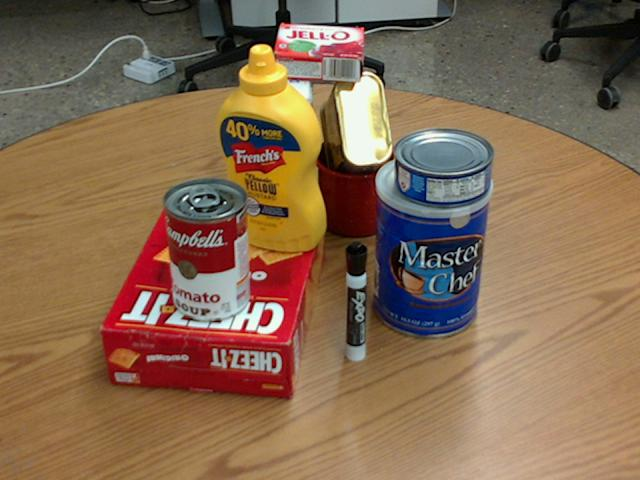cracker_box: (101, 199, 325, 398)
gelatin_box: (270, 24, 364, 82)
large_marker: (345, 241, 367, 361)
master_chef_can: (371, 151, 491, 337)
mug: (314, 133, 417, 235)
mustard_bottle: (214, 44, 324, 250)
potted_meat_can: (318, 73, 392, 189)
sugar_box: (268, 57, 312, 246)
tomato_soup_can: (162, 177, 250, 320)
tuna_fish_can: (393, 127, 493, 206)
